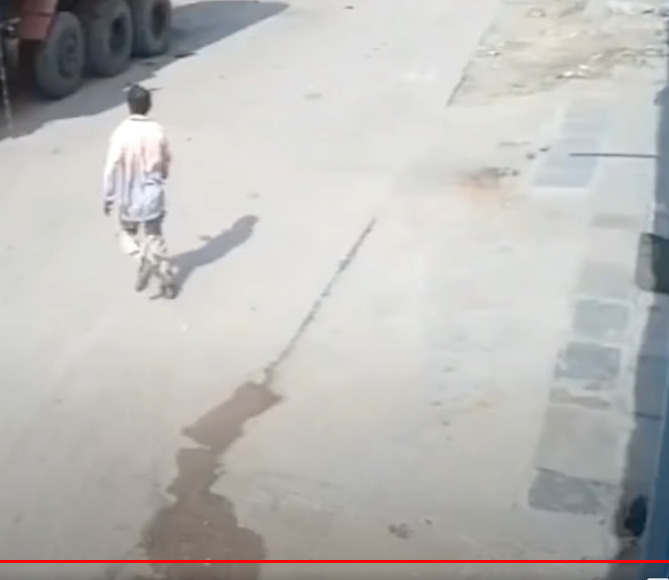person: (102, 87, 177, 299)
